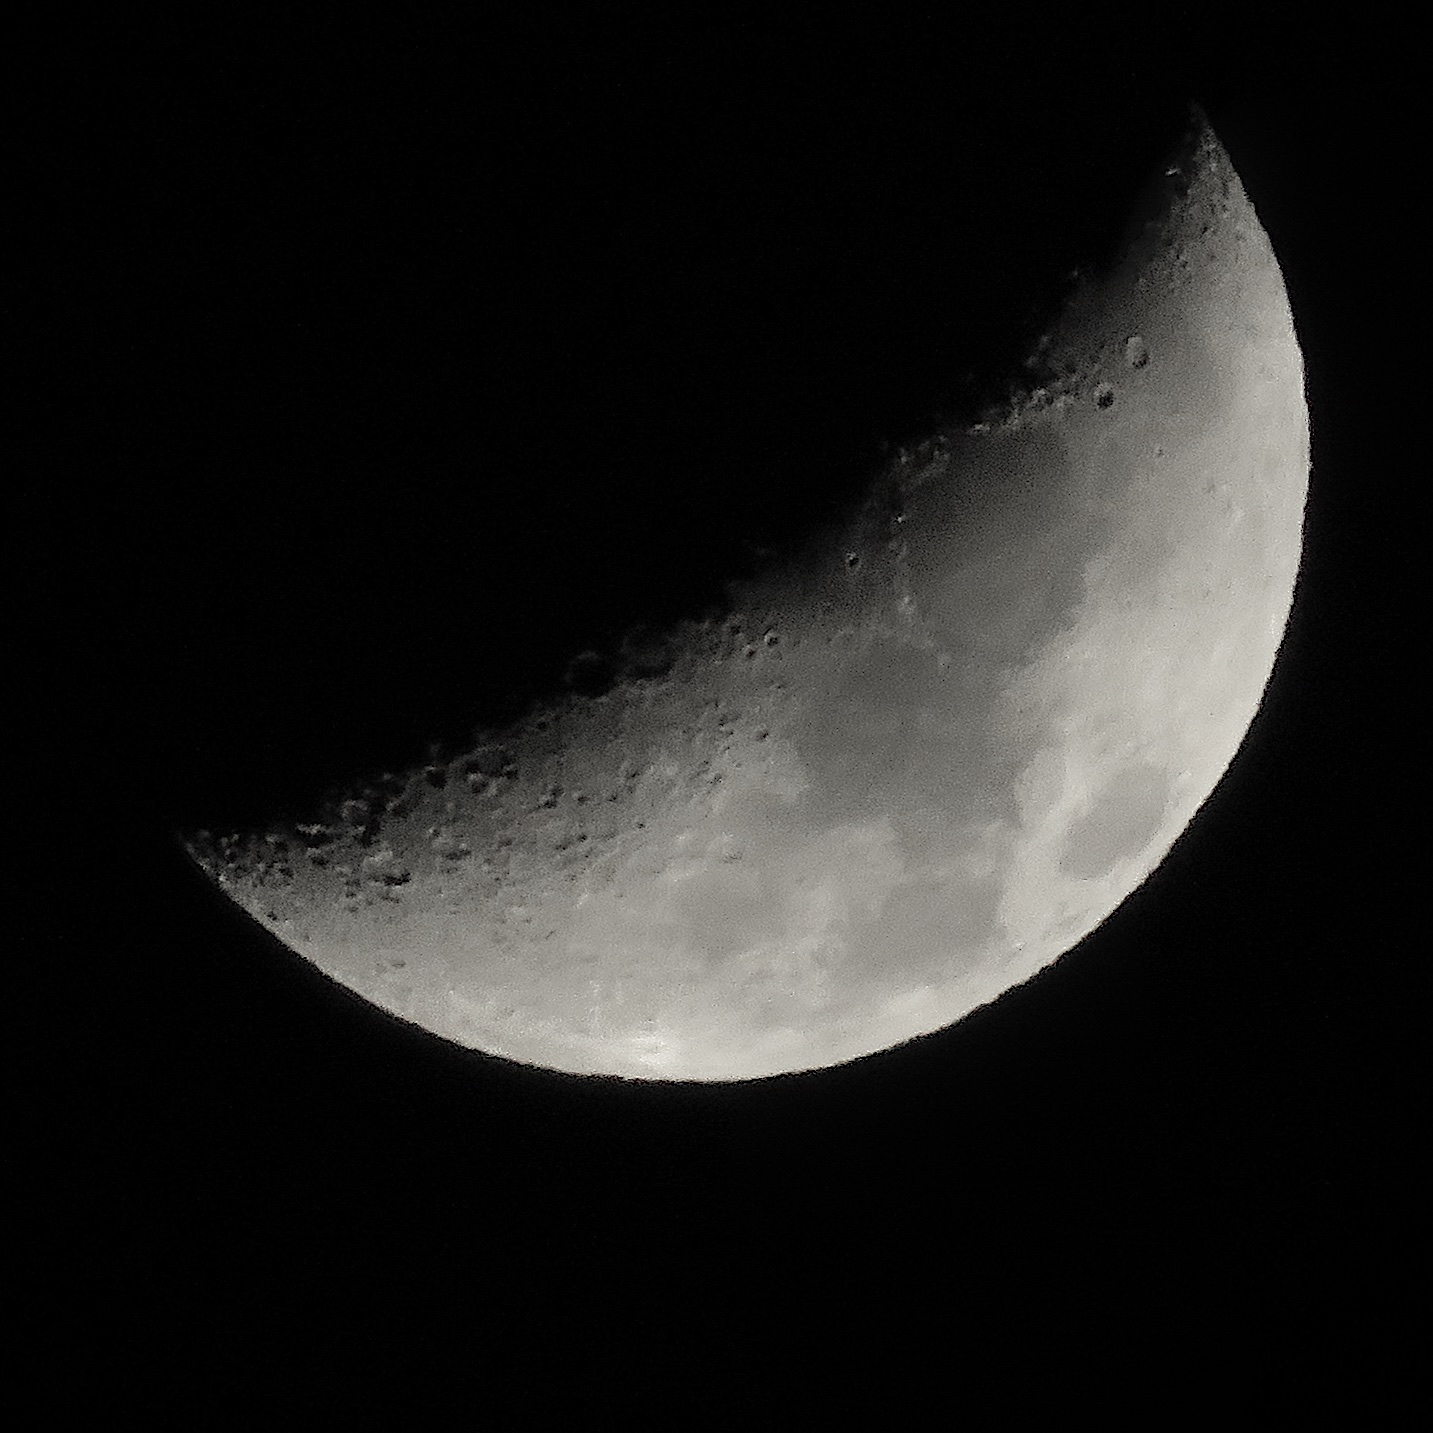crater: (597, 1008, 713, 1066), (824, 615, 888, 680), (709, 819, 773, 879), (741, 701, 798, 765), (1113, 328, 1167, 386), (1076, 367, 1125, 423), (1142, 429, 1182, 476), (832, 545, 873, 583), (570, 779, 597, 818)
